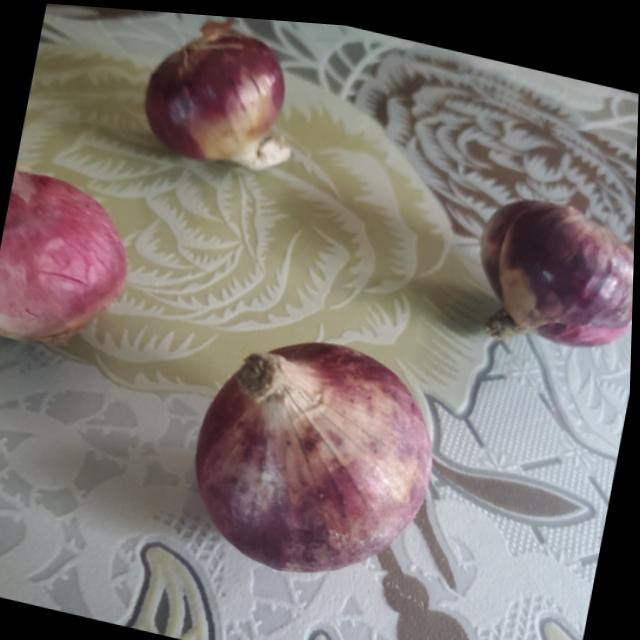onion: (186, 315, 458, 594), (137, 8, 315, 174), (468, 179, 636, 347), (0, 166, 135, 357)
